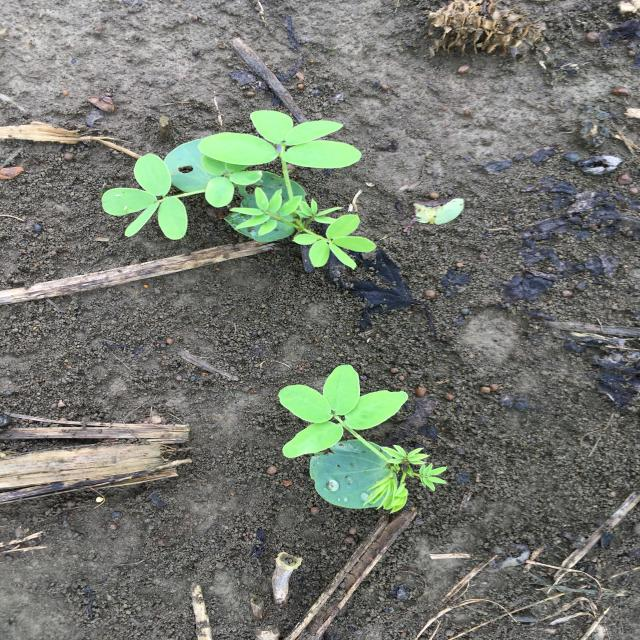Sicklepod: (101, 110, 377, 270), (278, 364, 448, 513)
